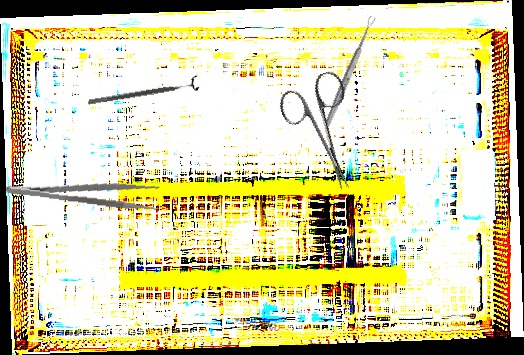Dressing Forceps: (4, 169, 162, 213)
Fixation Ring: (86, 74, 201, 111)
Iris Scissors: (273, 68, 379, 201)
Surgical Spoon: (323, 15, 377, 128)
